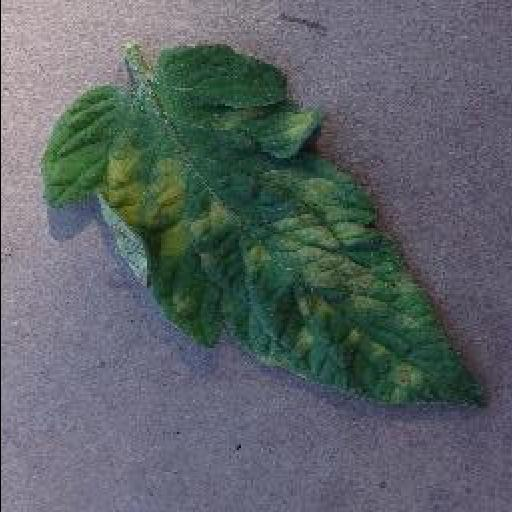disease_tomato: (43, 48, 489, 412)
